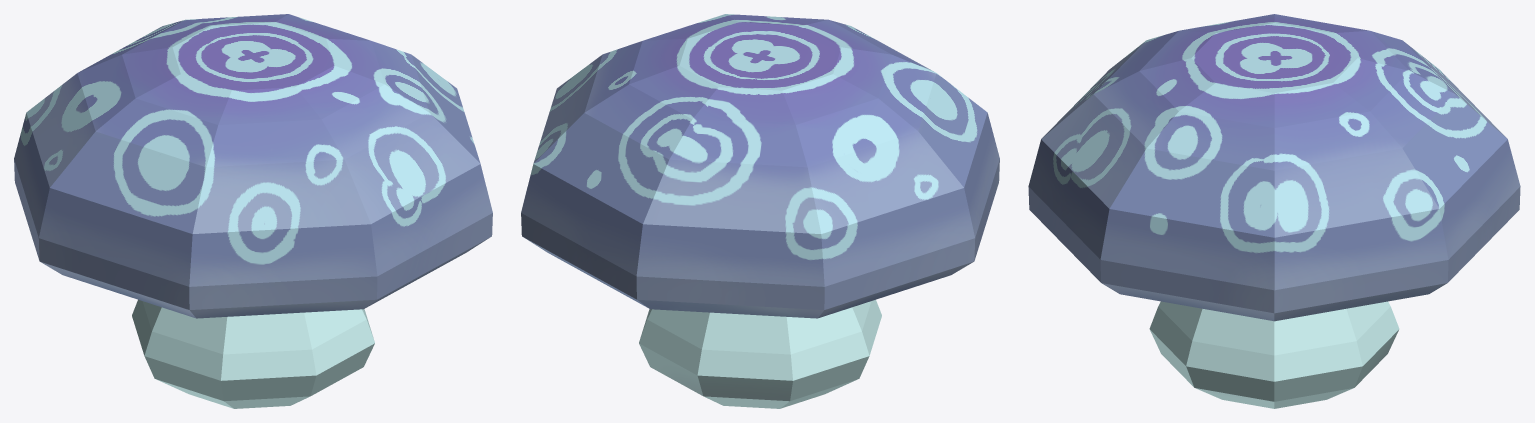
Rendered from 蘑菇_塗色完成.fbx.
The picture shows the model from 3 angles, left to right: view 1: azimuth 30°, elevation 25°; view 2: azimuth 150°, elevation 25°; view 3: azimuth 270°, elevation 25°; orthographic projection.
Visible parts, largest first — view 1: Circle.016; view 2: Circle.016; view 3: Circle.016.
Part boxes in pixels (box(x1,y1,x2,y2)): Circle.016: box(14, 14, 492, 408); Circle.016: box(521, 14, 999, 408); Circle.016: box(1028, 14, 1520, 408).
Size of the model in its own units: 38.85 by 28.89 by 38.85.
